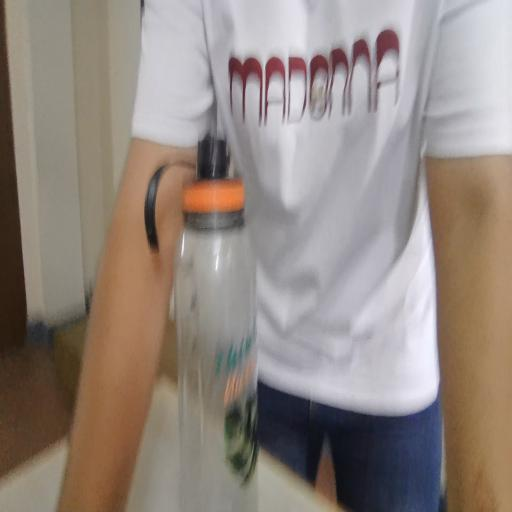Bottle: (187, 153, 274, 508)
